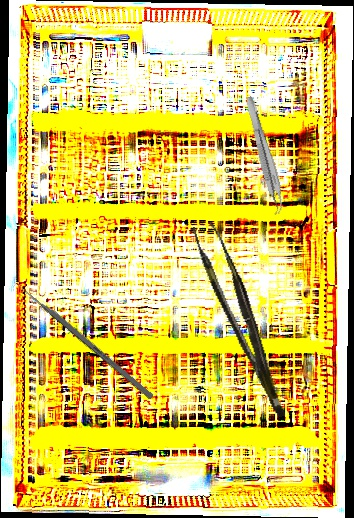Pusher: (12, 279, 155, 400)
Tissue Forceps: (191, 217, 286, 426), (237, 95, 290, 216)
